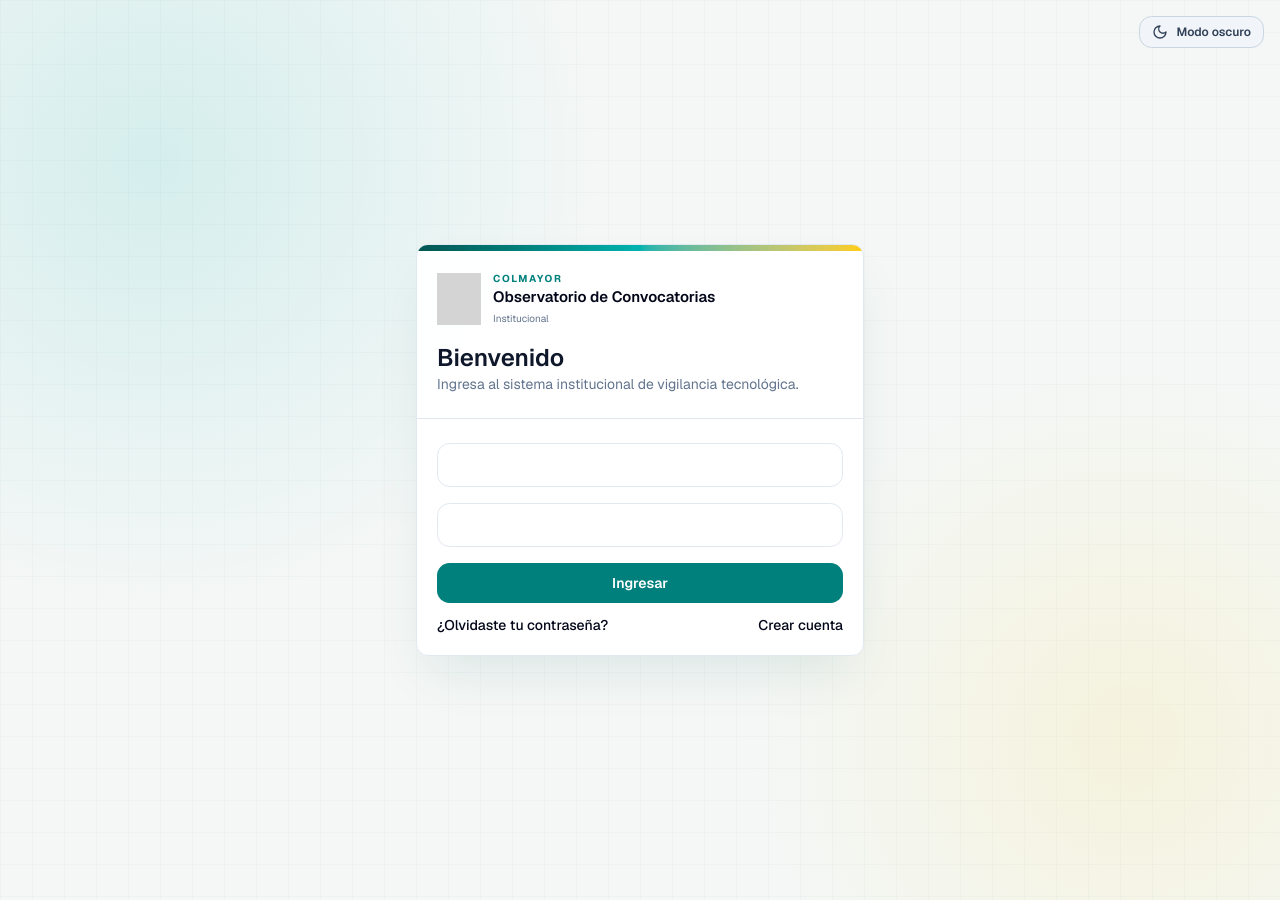
Login page — 401 path preserves form state and shows server detail (PR 3) › falls back to 'Credenciales inválidas' when the server's body.detail is empty
In the field with test id "login-email": (640, 465) 437,443 -> 843,487, type "another@example.com"
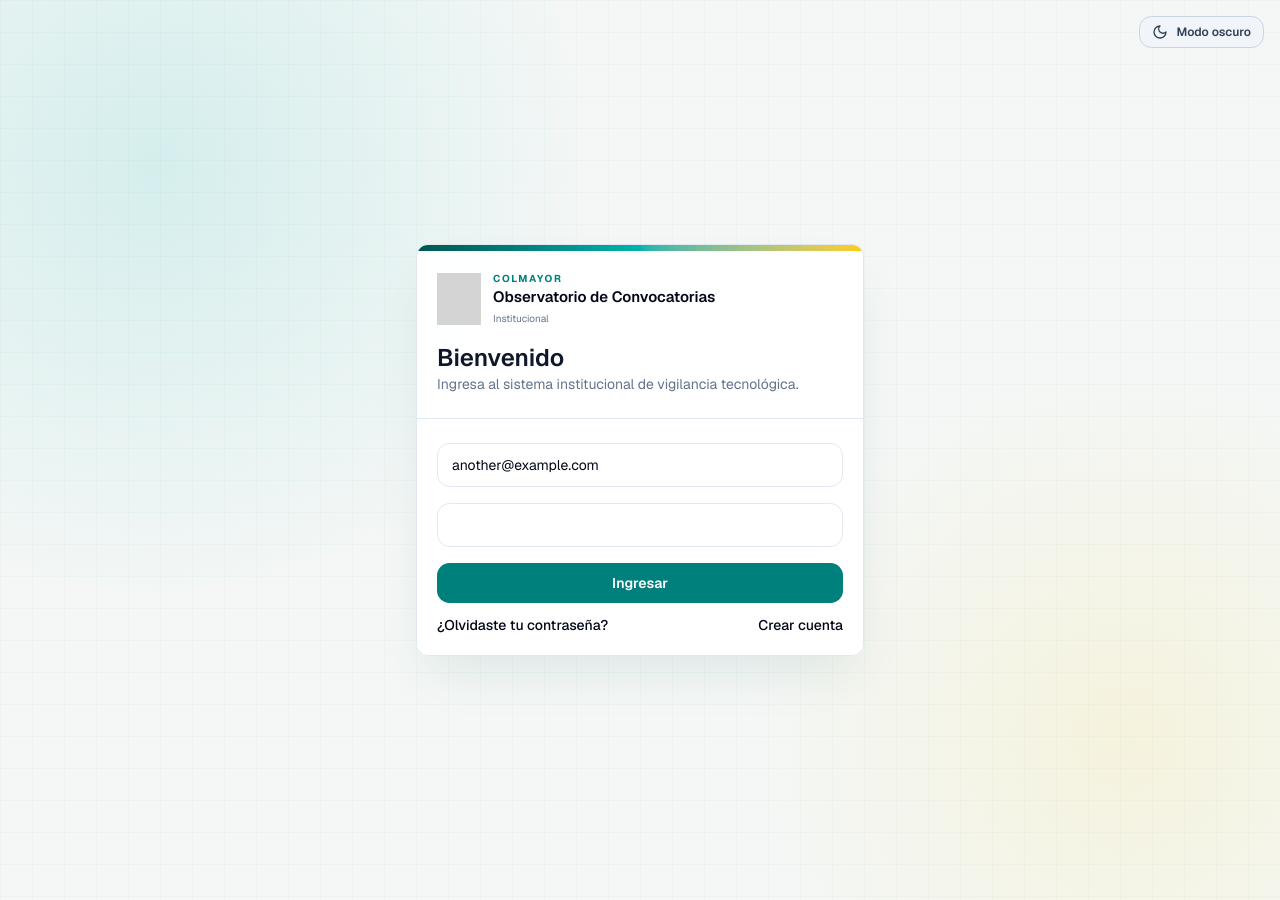
In the password field with test id "login-password": (640, 525) 437,503 -> 843,547, type "another-bad-pw"
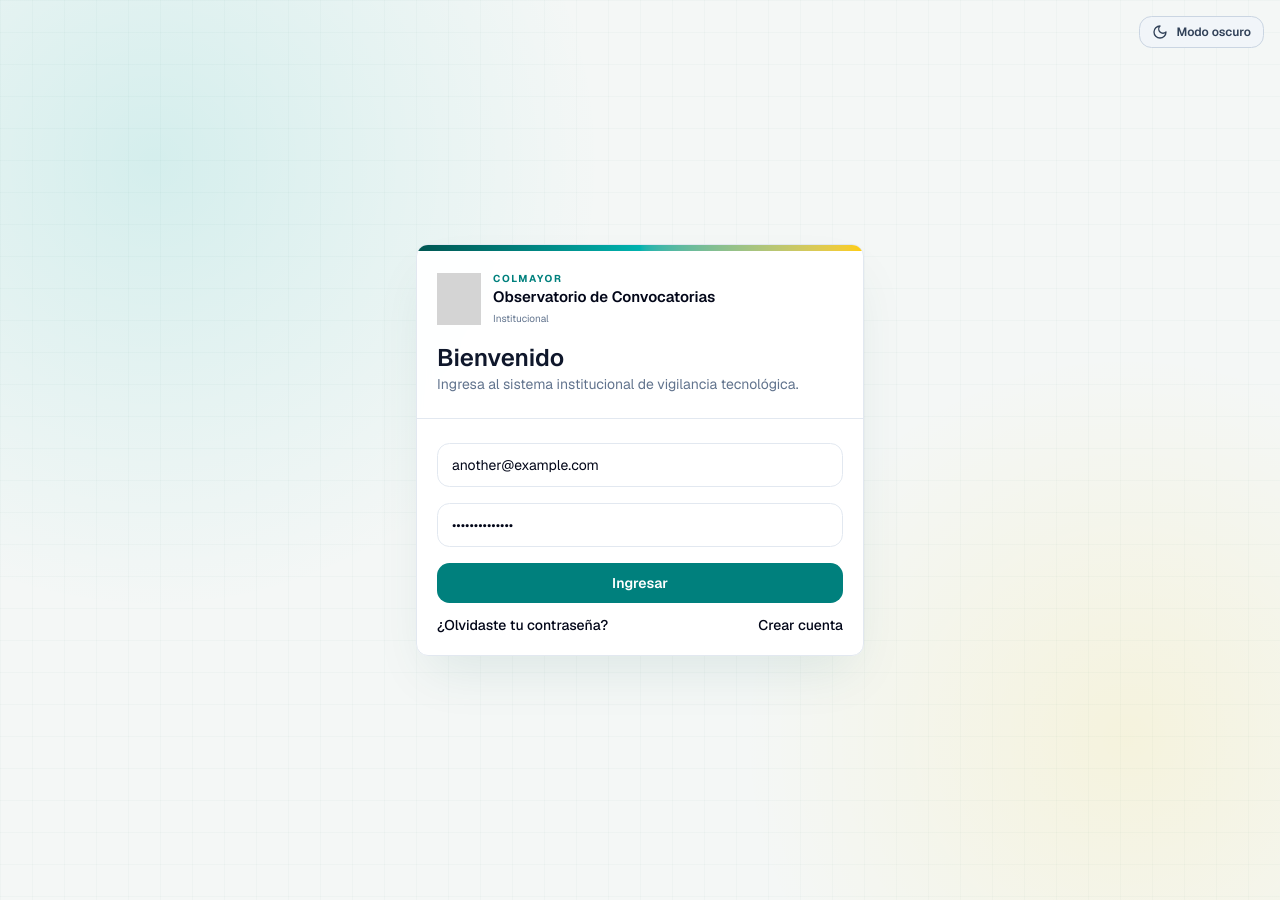
Click the button "Ingresar": (640, 583) 437,563 -> 843,603
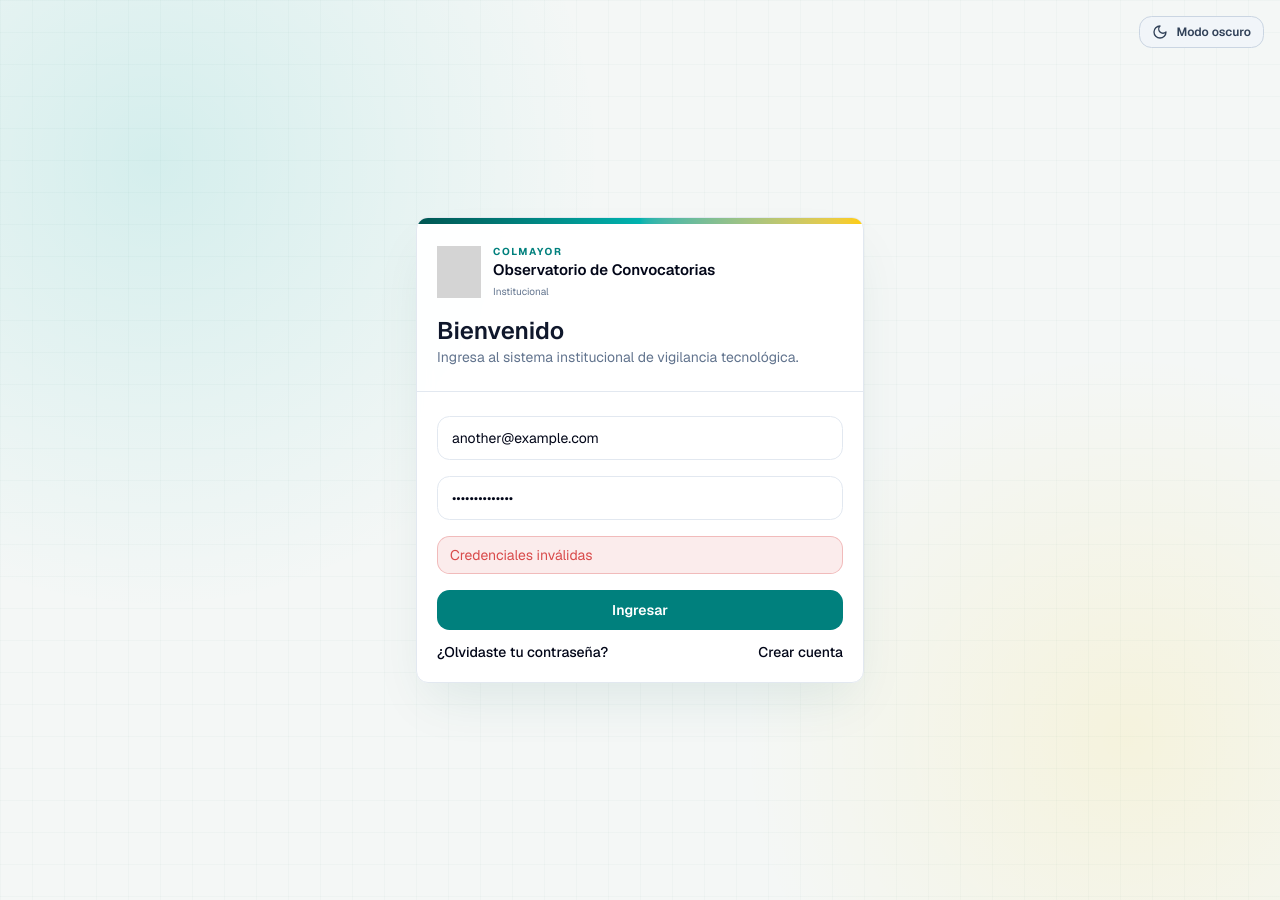
Now the text "Credenciales inválidas" is shown, box 437,536 -> 843,574
